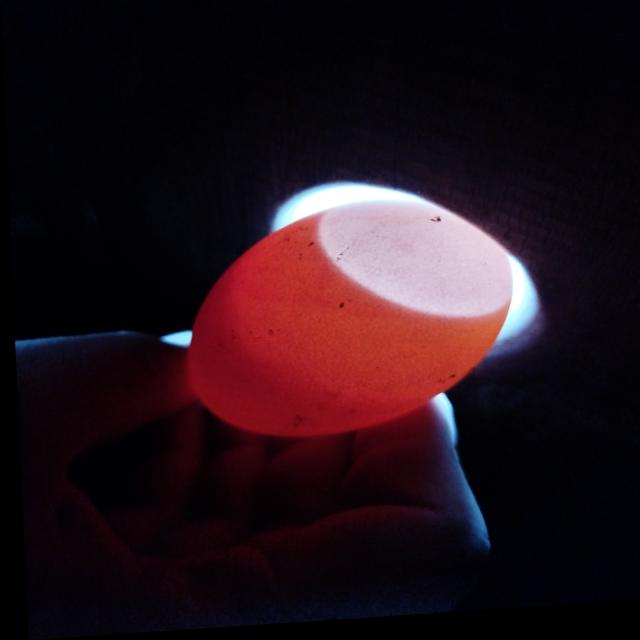Camara de Ar: (314, 205, 509, 325)
Gema Quebrada: (187, 278, 355, 440)
